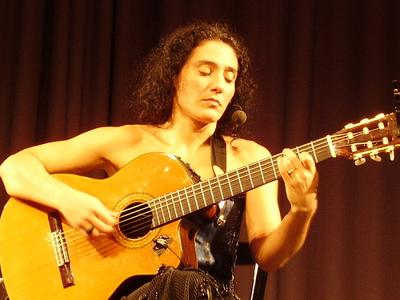person: (2, 22, 319, 300)
